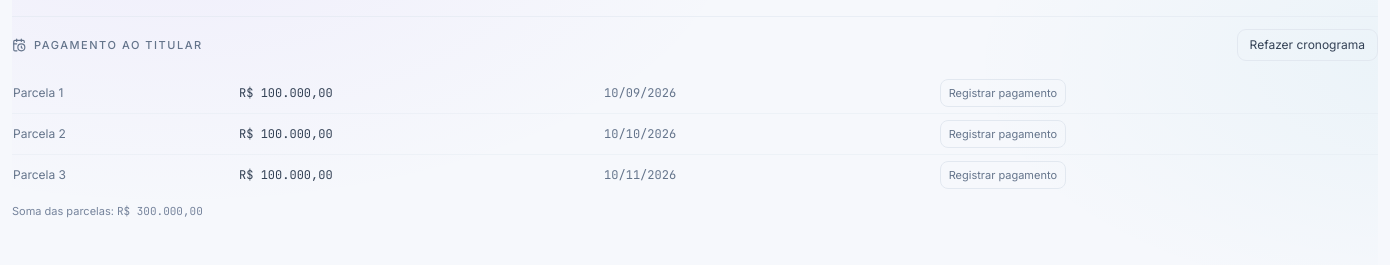
Test: Cronograma de pagamento ao titular › erro do servidor aparece na tela, sem sumir com o cronograma
Step 1. Click the button "Registrar pagamento" in the row of "Parcela 1" → (1003, 93), box 940,79 -> 1066,107
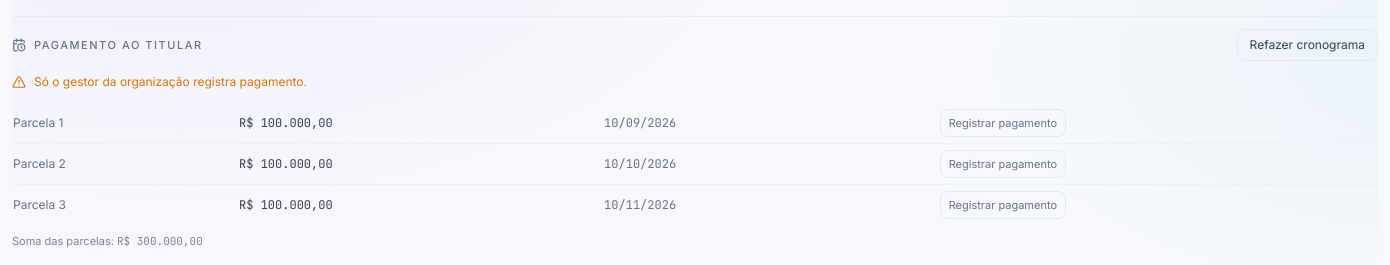
Check: the text "Parcela 1" is shown, box 12,103 -> 238,144
Check: the text "Só o gestor da organização registra pagamento." is shown, box 34,73 -> 307,91
